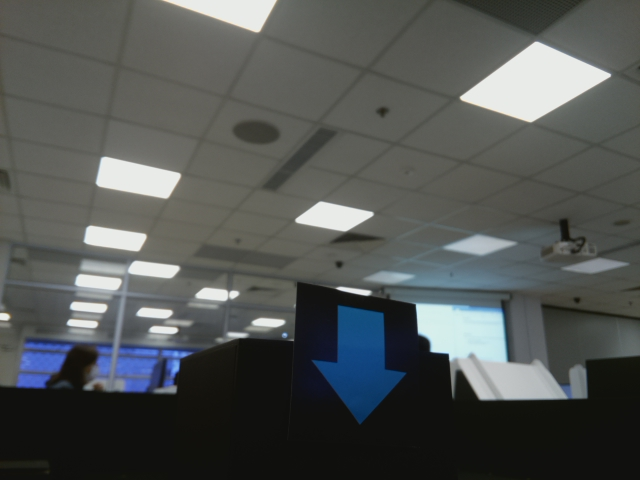down: (303, 297, 418, 427)
